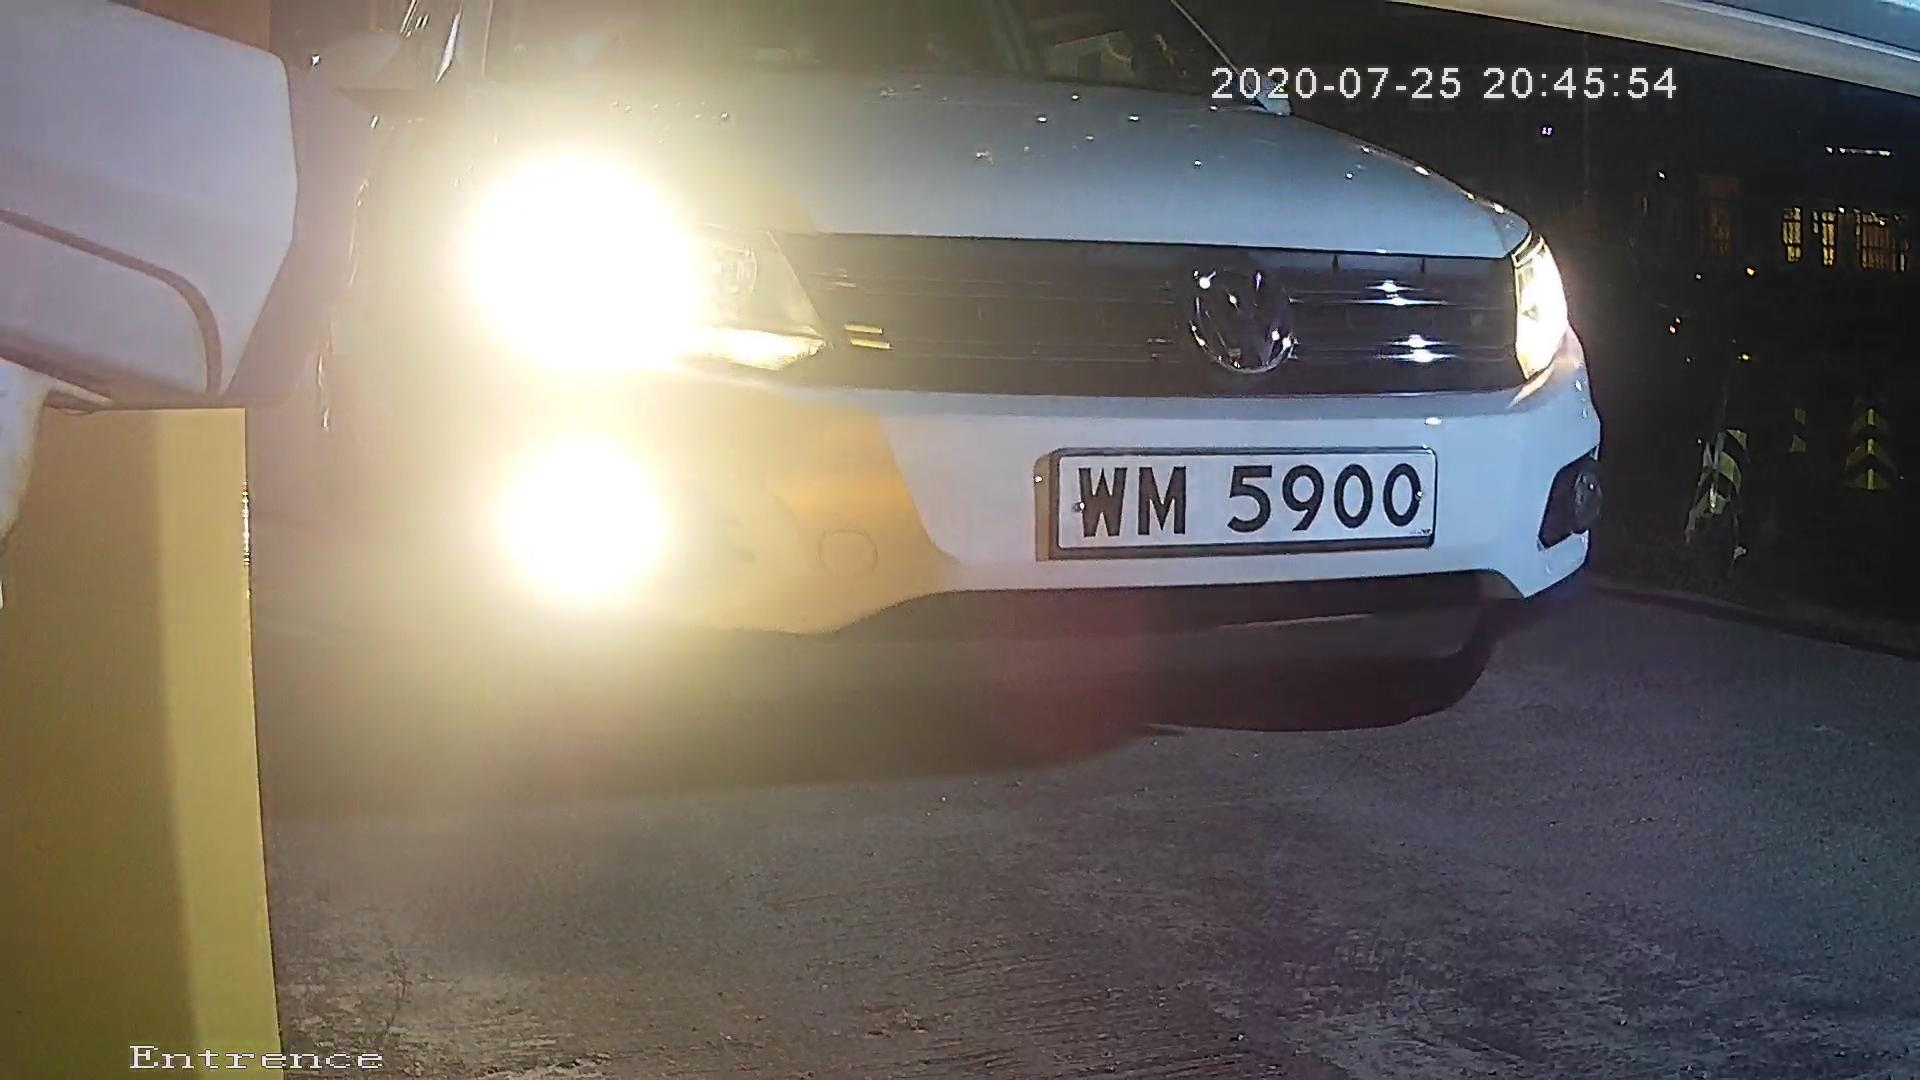Car: (9, 1, 1749, 830)
License Plate: (986, 430, 1500, 579)
